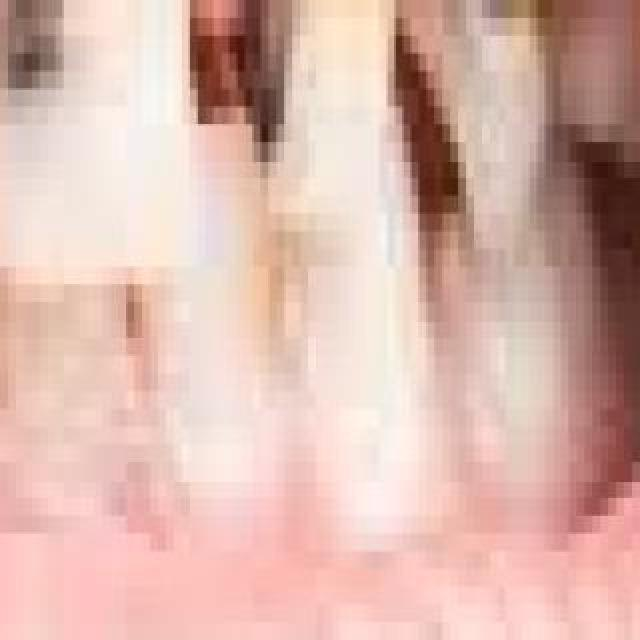cavities: (0, 0, 144, 282), (166, 0, 346, 222), (454, 0, 600, 110), (0, 0, 4, 308)
